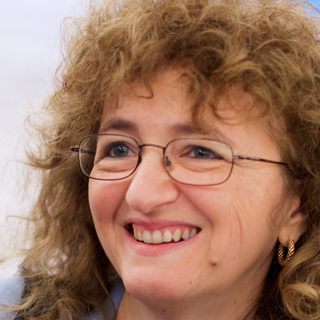eye: (178, 140, 224, 164), (97, 138, 135, 164)
